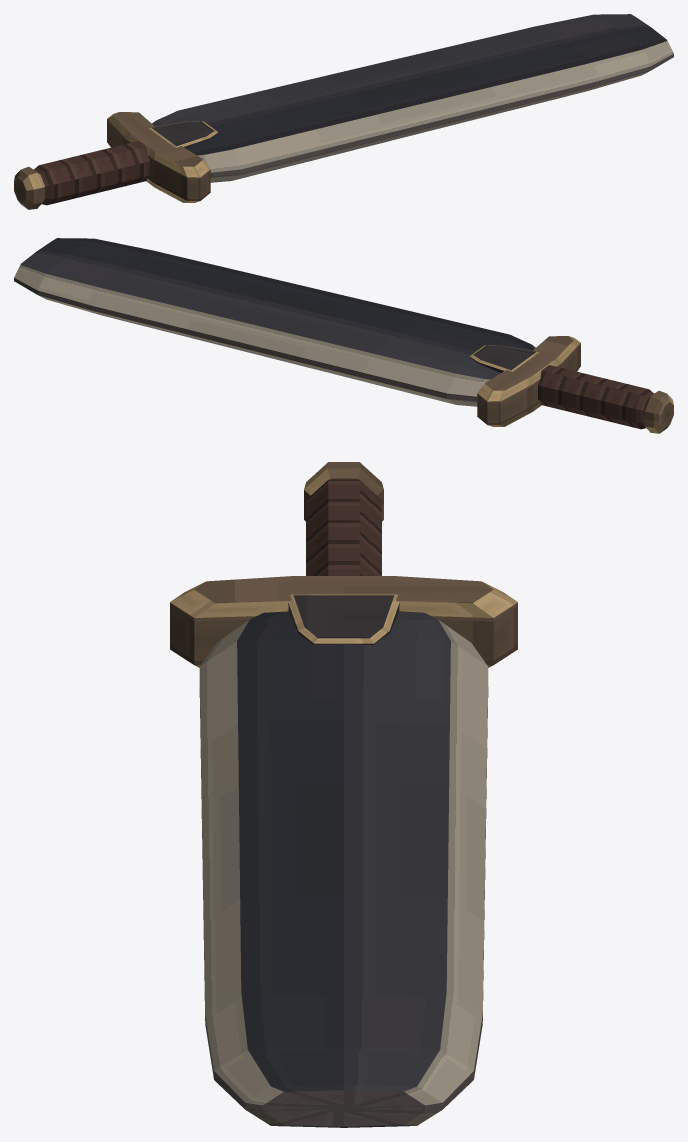
File: bench_xuanyue_zhenshan_sword_5.obj
3 views of the same model, one above another, from view 1: azimuth 30°, elevation 25°; view 2: azimuth 150°, elevation 25°; view 3: azimuth 270°, elevation 25° (orthographic). The views are drawn at different scales.
Visible parts, largest first — view 1: geometry; view 2: geometry; view 3: geometry.
Part boxes in pixels (x1,y1,x2,y2): geometry: [14, 14, 673, 209]; geometry: [14, 238, 673, 433]; geometry: [170, 462, 517, 1127].
Bounding box in the file's own units: 0.75 × 0.0424 × 0.1791.
